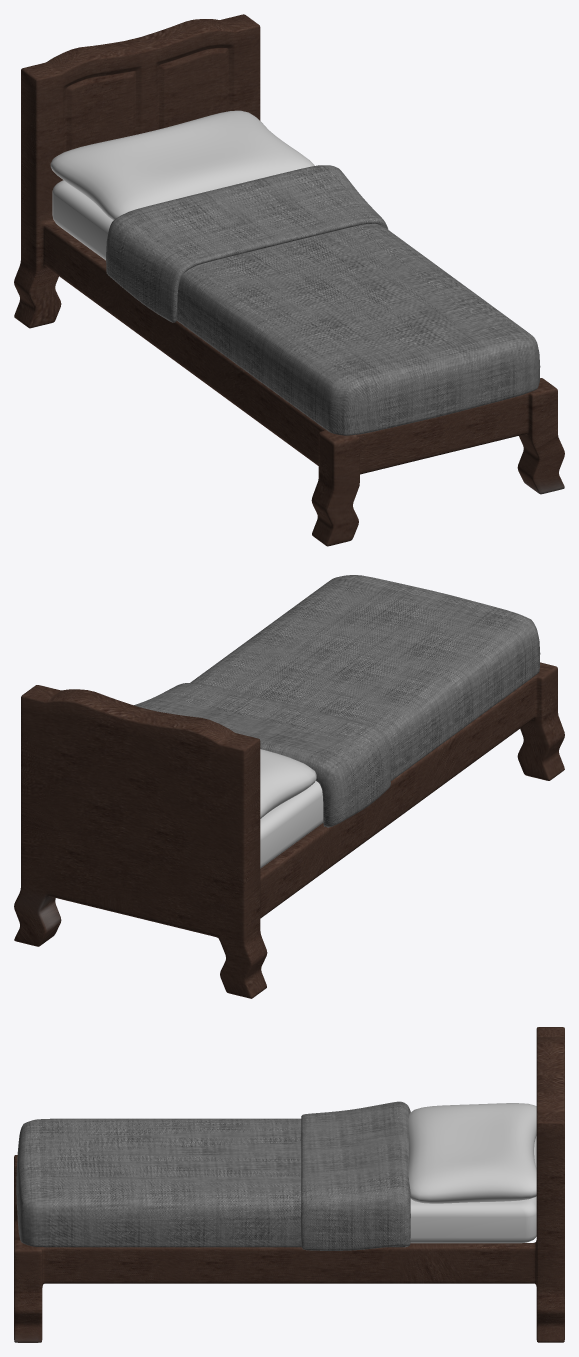
The model's file is SingleBedComplete.fbx.
3 renders of one model, top to bottom at view 1: azimuth 30°, elevation 25°; view 2: azimuth 150°, elevation 25°; view 3: azimuth 270°, elevation 25°, orthographic. The views are drawn at different scales.
Parts seen in each view (by area): view 1: SingleBedCover, SingleBedFrame, SingleBedPillow, SingleBedMattress; view 2: SingleBedFrame, SingleBedCover, SingleBedMattress, SingleBedPillow; view 3: SingleBedCover, SingleBedFrame, SingleBedPillow, SingleBedMattress.
Boxes of the visible parts, bbox=[...] form: SingleBedCover: bbox=[106, 165, 540, 435]; SingleBedFrame: bbox=[14, 14, 564, 546]; SingleBedPillow: bbox=[50, 110, 314, 220]; SingleBedMattress: bbox=[52, 180, 113, 260]; SingleBedFrame: bbox=[14, 662, 564, 998]; SingleBedCover: bbox=[134, 575, 540, 827]; SingleBedMattress: bbox=[260, 781, 323, 868]; SingleBedPillow: bbox=[260, 749, 316, 818]; SingleBedCover: bbox=[16, 1101, 410, 1250]; SingleBedFrame: bbox=[14, 1027, 564, 1342]; SingleBedPillow: bbox=[408, 1103, 536, 1203]; SingleBedMattress: bbox=[410, 1136, 536, 1243].
Bounding box in the file's own units: 107 × 109 × 243.
